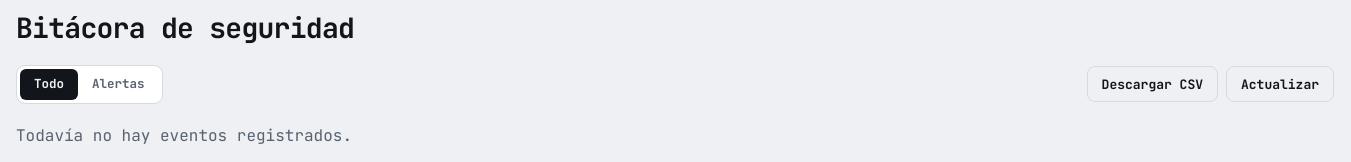
Test: PaginaBitacora › cambia a alertas con el filtro
expect the text "Todavía no hay eventos registrados." is shown: met, box [16, 125, 352, 146]
Click the button "Alertas" at (118, 84), box [78, 69, 158, 100]
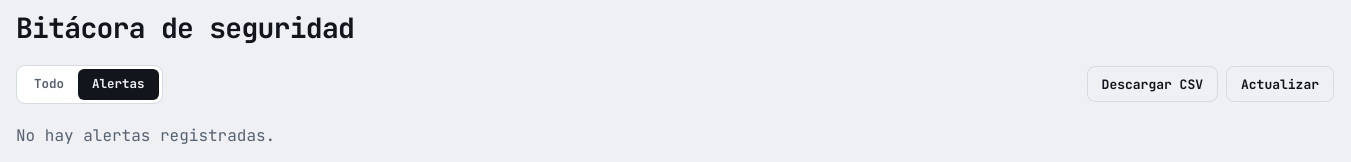
expect the text "No hay alertas registradas." is shown: met, box [16, 125, 275, 146]
